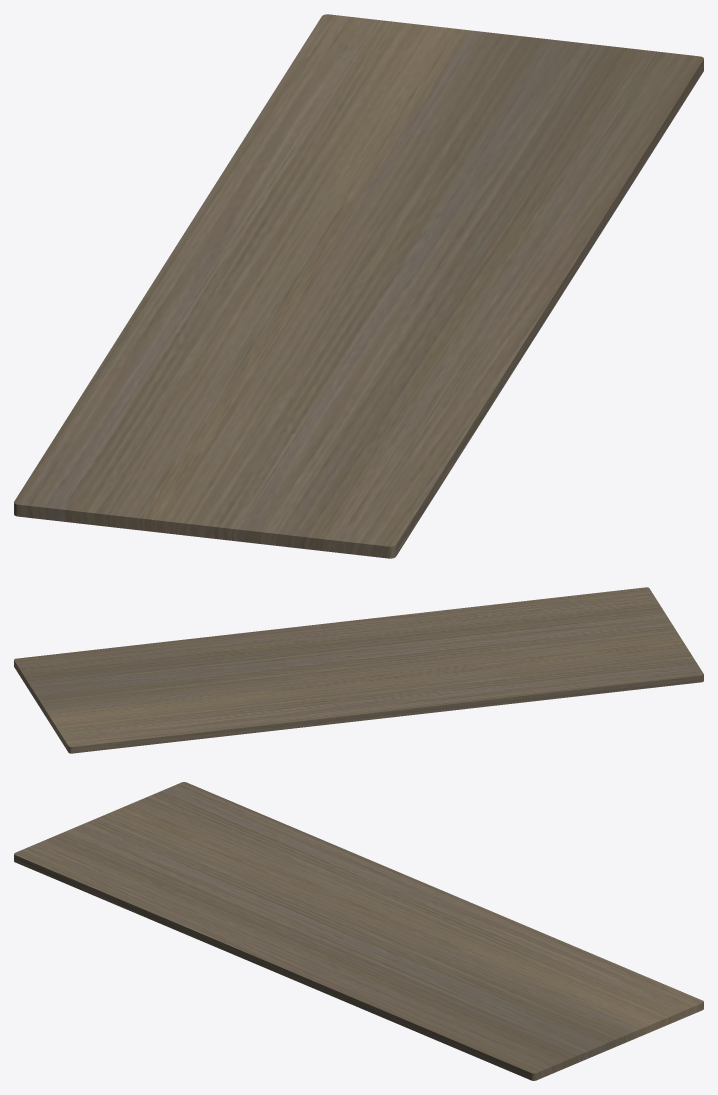
The model's file is top_shelf_0101_w1200_d400.glb.
The picture shows the model from 3 angles, top to bottom: view 1: azimuth 30°, elevation 25°; view 2: azimuth 150°, elevation 25°; view 3: azimuth 270°, elevation 25°; orthographic projection. The views are drawn at different scales.
Visible parts, largest first — view 1: top_shelf_0101_w1200_d400; view 2: top_shelf_0101_w1200_d400; view 3: top_shelf_0101_w1200_d400.
Part boxes in pixels (x1,y1,x2,y2): top_shelf_0101_w1200_d400: (14,14,703,558); top_shelf_0101_w1200_d400: (14,587,703,753); top_shelf_0101_w1200_d400: (14,782,703,1080).
Size of the model in its own units: 1.11 by 0.0131 by 1.11.
Materials: 1 (1 with a texture image).
